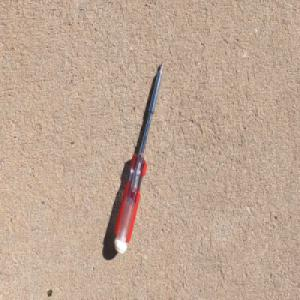Screwdriver: (113, 60, 164, 256)
